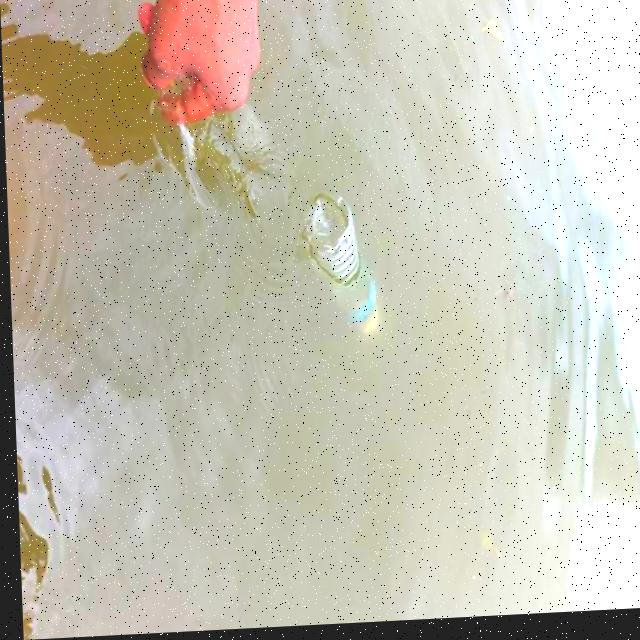waterbottle: (298, 178, 399, 345)
